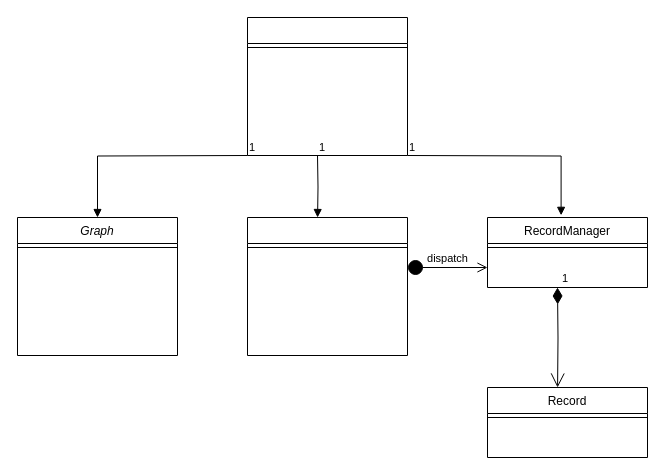
The diagram is 665 pixels wide and 475 high, and some of its shapes have lost their labels. Here are the shapes that lost their labels. From the top down, the centre of each, then its label:
At point (327, 86): "Dashboard".
At point (327, 286): "FormDialog".
